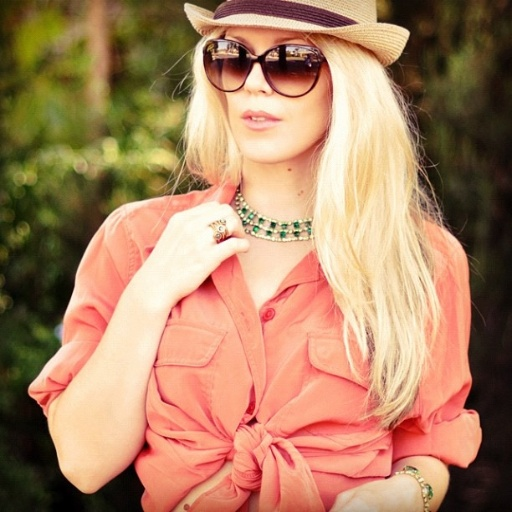hand: (51, 197, 268, 486), (146, 199, 250, 297), (327, 475, 423, 510)
